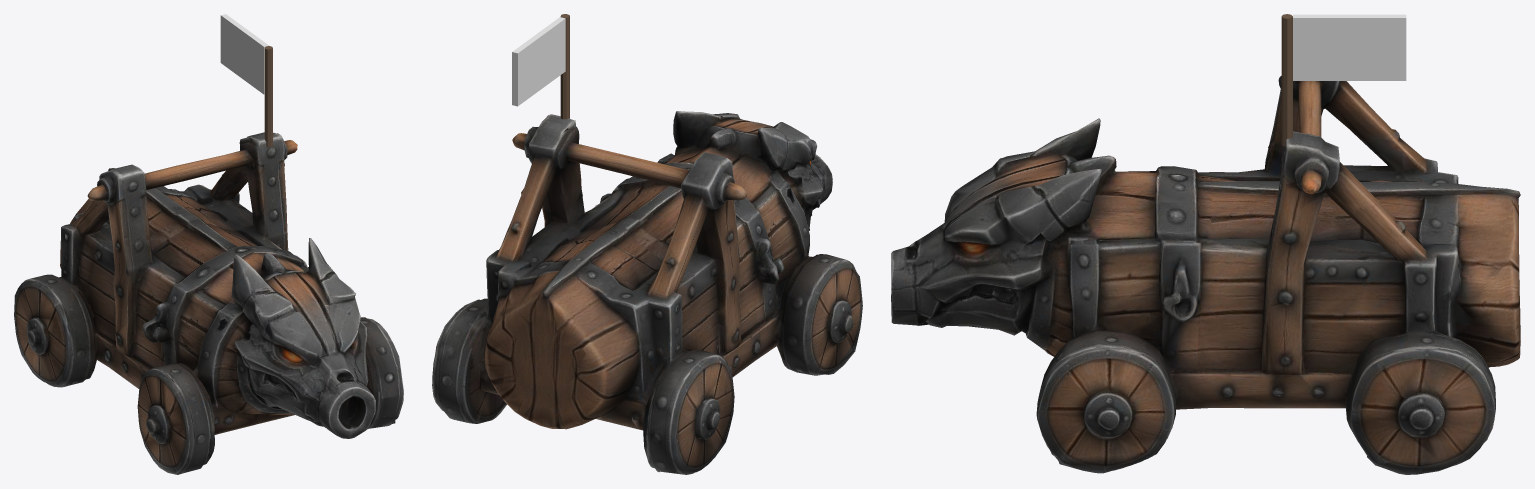
The model's file is fire_ram.glb.
3 renders of one model, left to right at view 1: azimuth 30°, elevation 25°; view 2: azimuth 150°, elevation 25°; view 3: azimuth 270°, elevation 25°, orthographic. The views are drawn at different scales.
Parts seen in each view (by area): view 1: Body, Wheel_RR, Wheel_FR, Wheel_FL, Flag, FlagPole; view 2: Body, Wheel_RR, Wheel_FR, Wheel_RL, Flag, FlagPole; view 3: Body, Wheel_RL, Wheel_FL, Flag, FlagPole.
Boxes of the visible parts, x1,y1,x2,y2 form: Body: (59,132,381,464); Wheel_RR: (14,274,92,387); Wheel_FR: (137,363,210,474); Wheel_FL: (360,317,403,428); Flag: (220,14,268,94); FlagPole: (264,46,272,147); Body: (459,111,832,468); Wheel_RR: (648,350,734,474); Wheel_FR: (782,254,862,375); Wheel_RL: (432,298,487,422); Flag: (512,17,565,106); FlagPole: (560,14,569,119); Body: (891,76,1520,409); Wheel_RL: (1346,331,1495,474); Wheel_FL: (1036,331,1176,473); Flag: (1293,14,1406,80); FlagPole: (1281,14,1292,146).
Size of the model in its own units: 1.17 by 1.52 by 2.
Materials: 3 (1 with a texture image).
